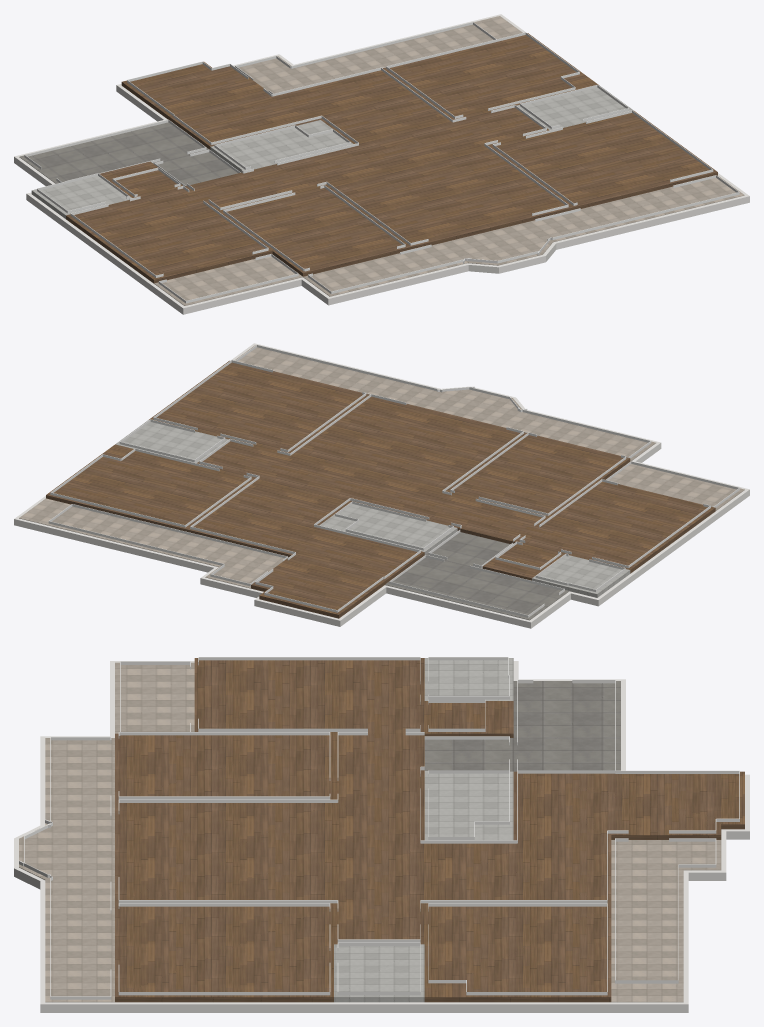
File: floors.glb
3 views of the same model, one above another, from view 1: azimuth 30°, elevation 25°; view 2: azimuth 150°, elevation 25°; view 3: azimuth 270°, elevation 25° (orthographic). The views are drawn at different scales.
Parts seen in each view (by area): view 1: floor_living, floor_bed_se, floor_balcony_front, floor_alpha, floor_bed_ne, floor_bed_sw, floor_kitchen, slab, floor_balcony_north, floor_vestibule, floor_bath_center, floor_balcony_west (+17 smaller); view 2: floor_living, floor_bed_se, floor_alpha, floor_bed_ne, floor_balcony_front, floor_kitchen, slab, floor_bed_sw, floor_balcony_north, floor_vestibule, floor_bath_center, floor_balcony_west (+17 smaller); view 3: floor_living, floor_bed_se, floor_balcony_front, floor_bed_ne, floor_alpha, floor_kitchen, floor_bed_sw, floor_balcony_north, slab, floor_vestibule, floor_bath_center, floor_balcony_west (+15 smaller).
Part boxes in pixels (x1,y1,x2,y2): floor_living: (184,70,572,249); floor_bed_se: (489,111,717,209); floor_balcony_front: (303,175,744,296); floor_alpha: (66,188,272,283); floor_bed_ne: (383,33,598,119); floor_bed_sw: (219,187,409,276); floor_kitchen: (121,61,320,149); slab: (14,14,749,314); floor_balcony_north: (234,16,522,93); floor_vestibule: (19,122,208,183); floor_bath_center: (210,120,353,172); floor_balcony_west: (154,256,302,305); floor_living: (186,396,548,554); floor_bed_se: (149,360,369,453); floor_alpha: (517,481,715,573); floor_bed_ne: (46,444,254,531); floor_balcony_front: (234,345,655,461); floor_kitchen: (251,527,424,618); slab: (14,343,749,628); floor_bed_sw: (448,435,630,517); floor_balcony_north: (19,498,284,588); floor_vestibule: (385,557,569,620); floor_bath_center: (319,504,457,554); floor_balcony_west: (608,464,744,510); floor_living: (115,733,611,944); floor_bed_se: (115,905,333,1002); floor_balcony_front: (19,738,114,1002); floor_bed_ne: (424,905,611,1002); floor_alpha: (194,658,424,733); floor_kitchen: (513,771,744,841); floor_bed_sw: (115,733,333,801); floor_balcony_north: (611,840,721,1002); slab: (14,661,749,1012); floor_vestibule: (513,681,620,771); floor_bath_center: (424,771,513,840); floor_balcony_west: (115,662,194,733).
Size of the model in its own units: 16.4 by 0.37 by 14.85.
Materials: 6 (4 with a texture image).
